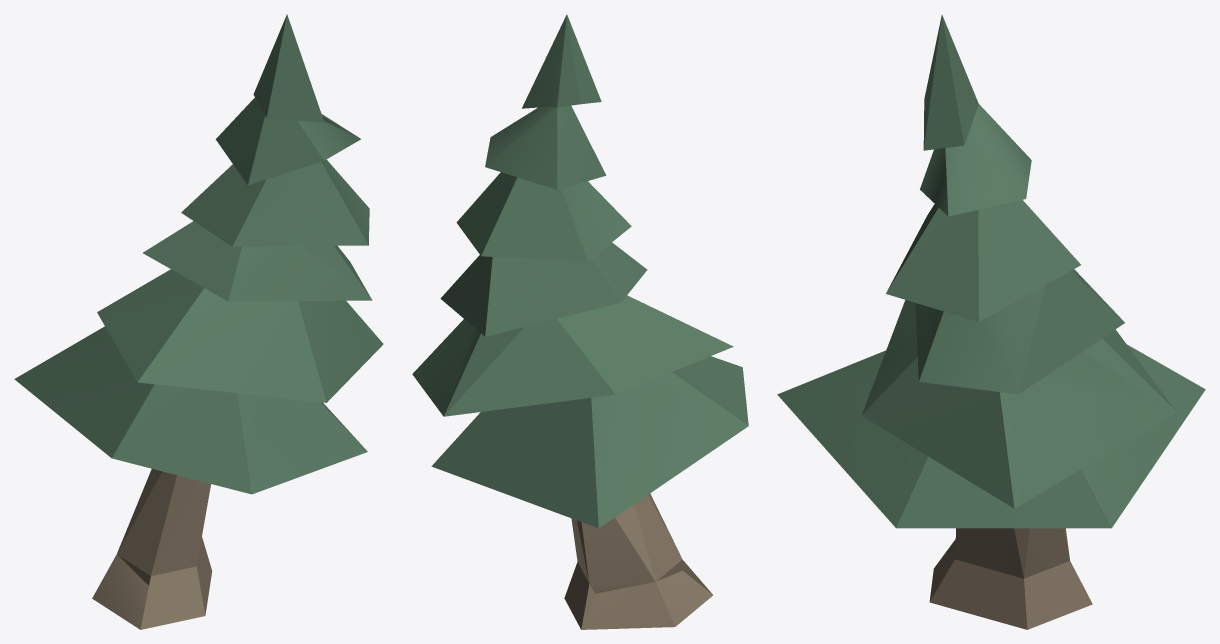
The model's file is Vegetation_Tree_Alpine_03.fbx.
3 renders of one model, left to right at view 1: azimuth 30°, elevation 25°; view 2: azimuth 150°, elevation 25°; view 3: azimuth 270°, elevation 25°, orthographic. The views are drawn at different scales.
Parts seen in each view (by area): view 1: Vegetation_Tree_Alpine_03; view 2: Vegetation_Tree_Alpine_03; view 3: Vegetation_Tree_Alpine_03.
Part boxes in pixels (x1,y1,x2,y2): Vegetation_Tree_Alpine_03: (14, 14, 383, 629); Vegetation_Tree_Alpine_03: (412, 14, 748, 629); Vegetation_Tree_Alpine_03: (777, 15, 1205, 629).
Size of the model in its own units: 149 by 263 by 161.
